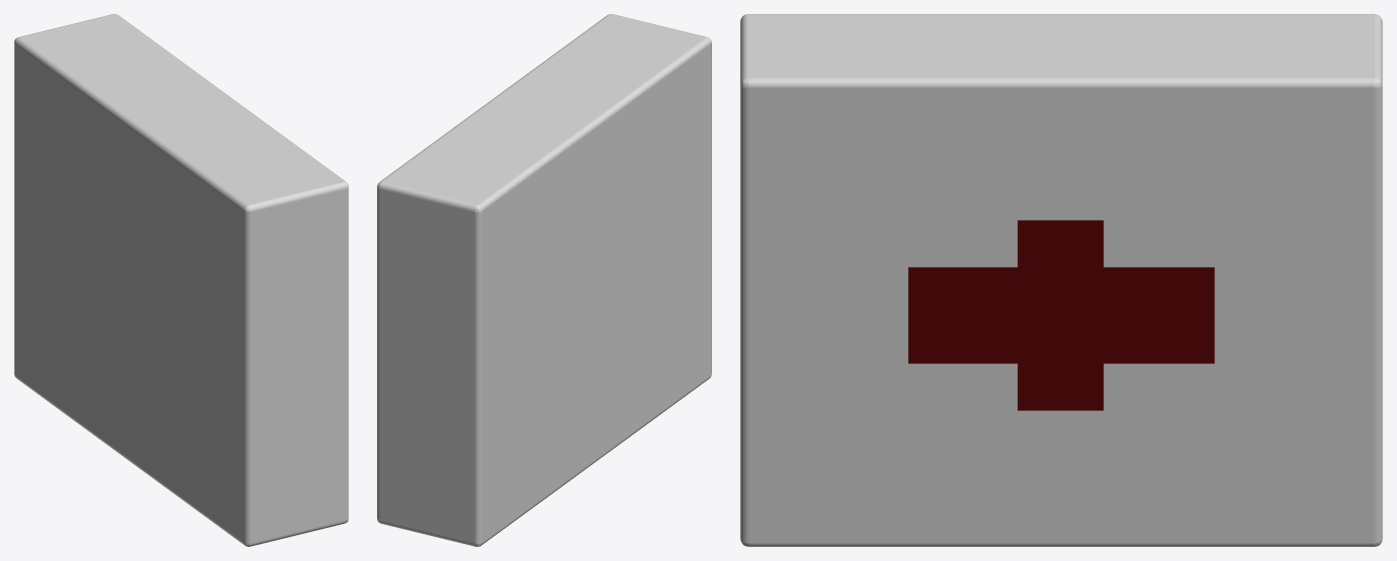
The model's file is medikit.glb.
3 renders of one model, left to right at view 1: azimuth 30°, elevation 25°; view 2: azimuth 150°, elevation 25°; view 3: azimuth 270°, elevation 25°, orthographic. The views are drawn at different scales.
Visible parts, largest first — view 1: medikit; view 2: medikit; view 3: medikit.
Part boxes in pixels (x1,y1,x2,y2): medikit: (14,14,348,546); medikit: (377,14,711,546); medikit: (740,14,1382,546).
Bounding box in the file's own units: 0.6415 × 2 × 2.49.
